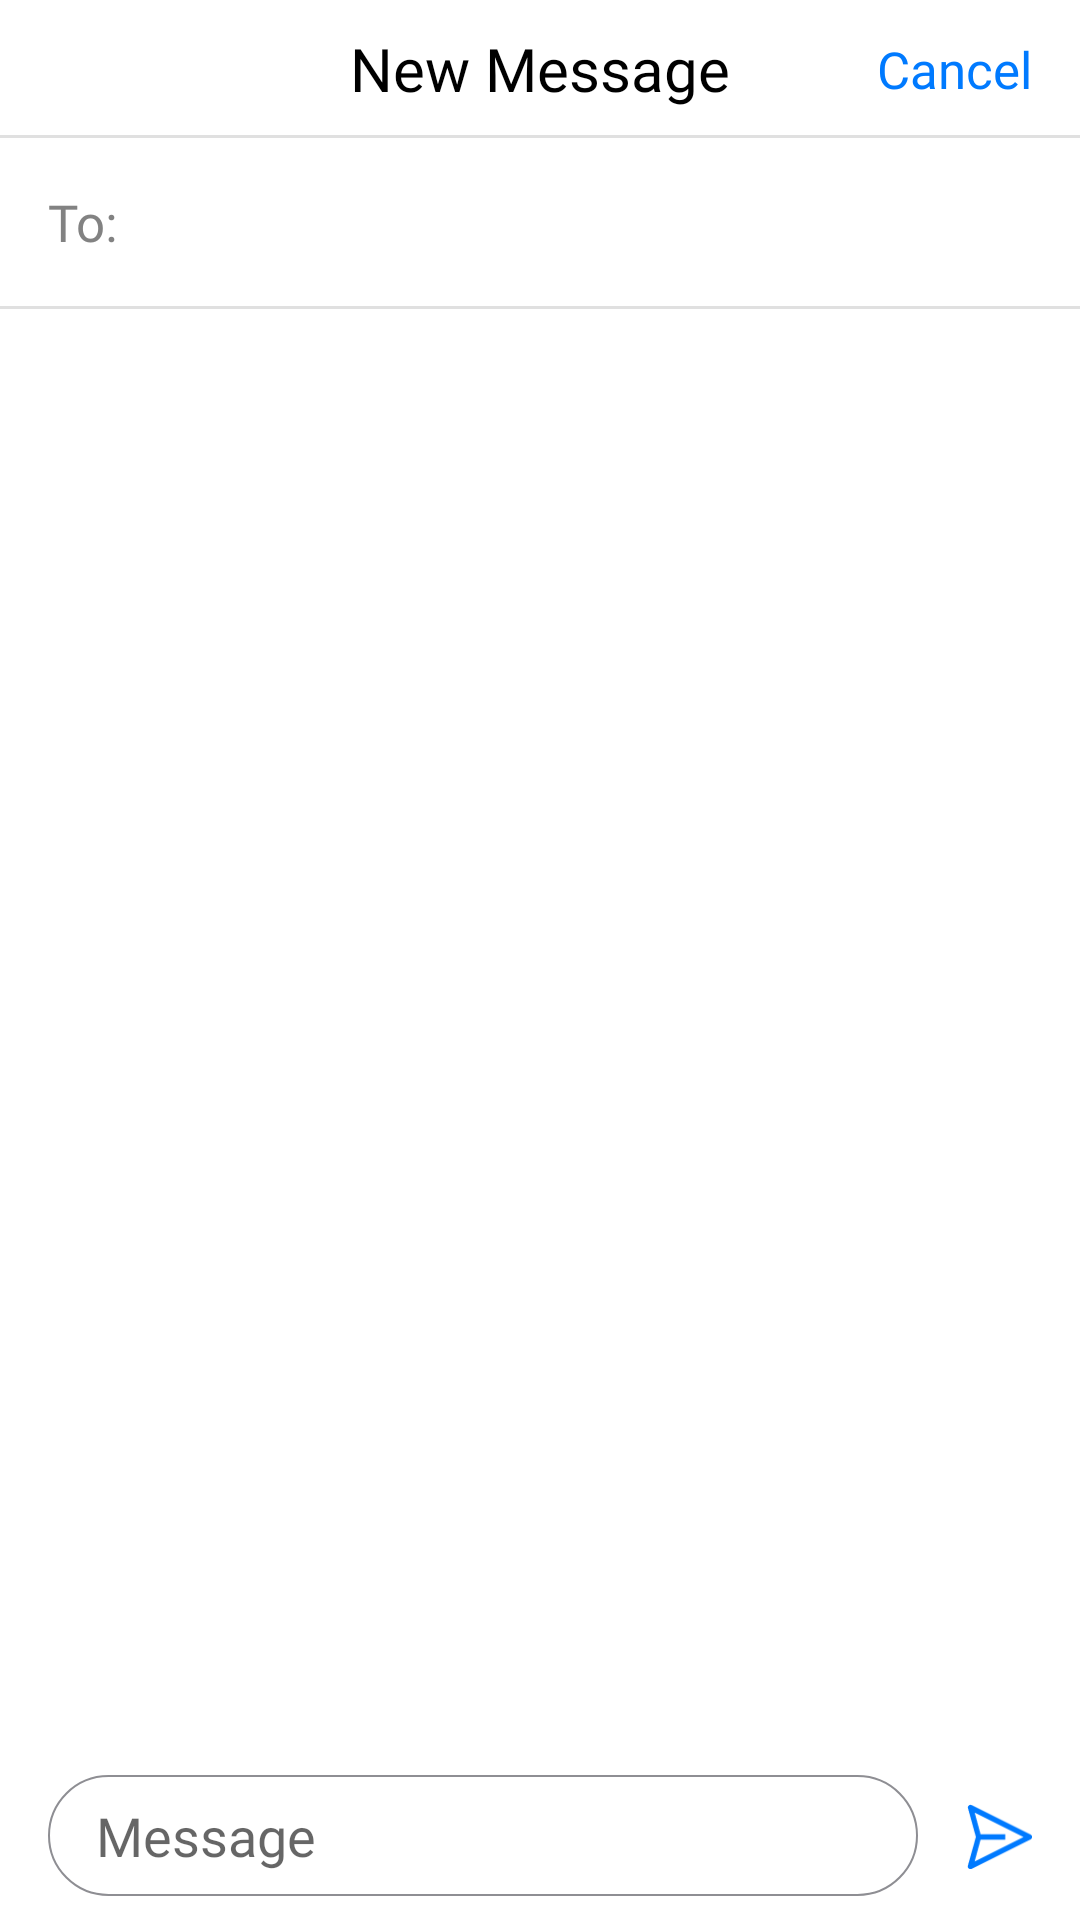

Locate icon controls on the screen. Image size 1080px x 1920px, boxes as region(x1, y1, x2, y2).
send: region(967, 1804, 1032, 1869)
